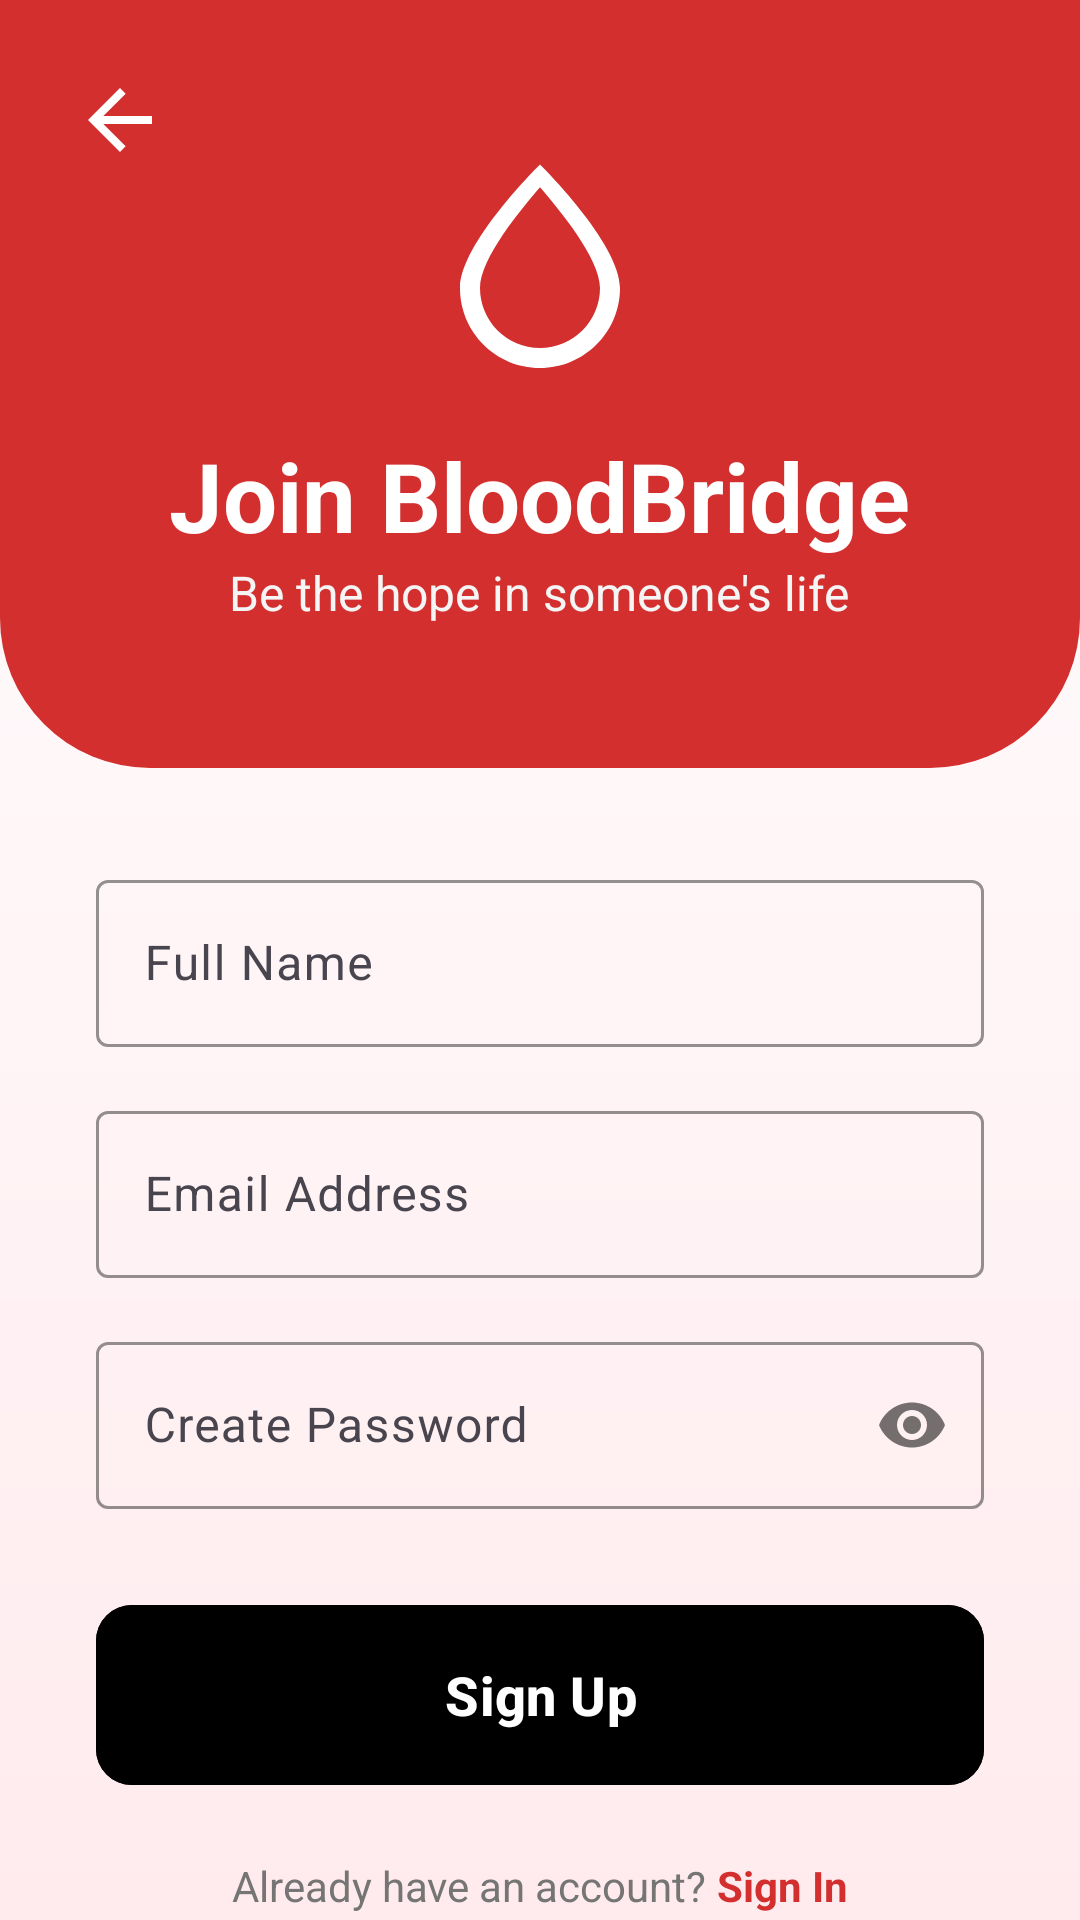

Locate icon controls on the screen. Image size 1080×1920, boxes as (x1, y1, x2, y2).
Back: (88, 88, 152, 152)
